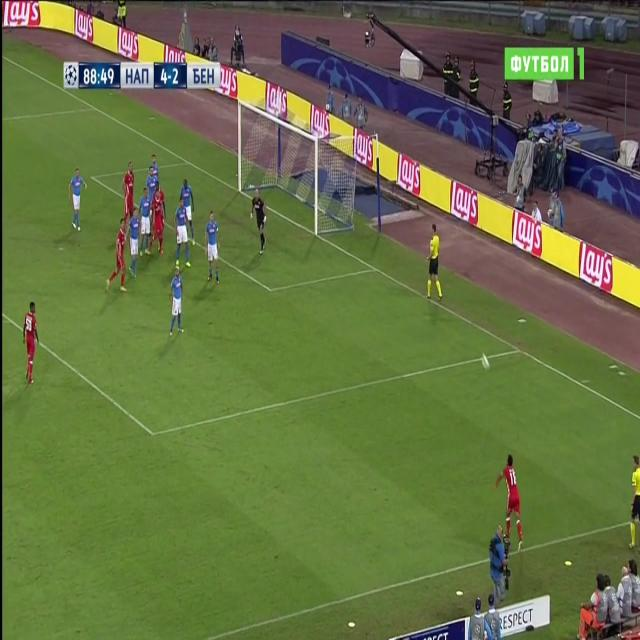Ball: (479, 352, 491, 375)
Goalkeeper: (250, 185, 268, 259)
Player: (493, 453, 525, 553), (105, 216, 127, 296), (20, 300, 40, 387), (67, 167, 88, 235), (168, 263, 186, 338), (179, 176, 197, 248), (204, 209, 220, 288), (172, 199, 190, 269), (138, 185, 152, 259), (128, 207, 141, 280), (153, 187, 167, 254), (120, 160, 134, 219), (146, 164, 158, 193), (150, 151, 160, 176)
Referee: (423, 222, 443, 304), (627, 451, 640, 553)
